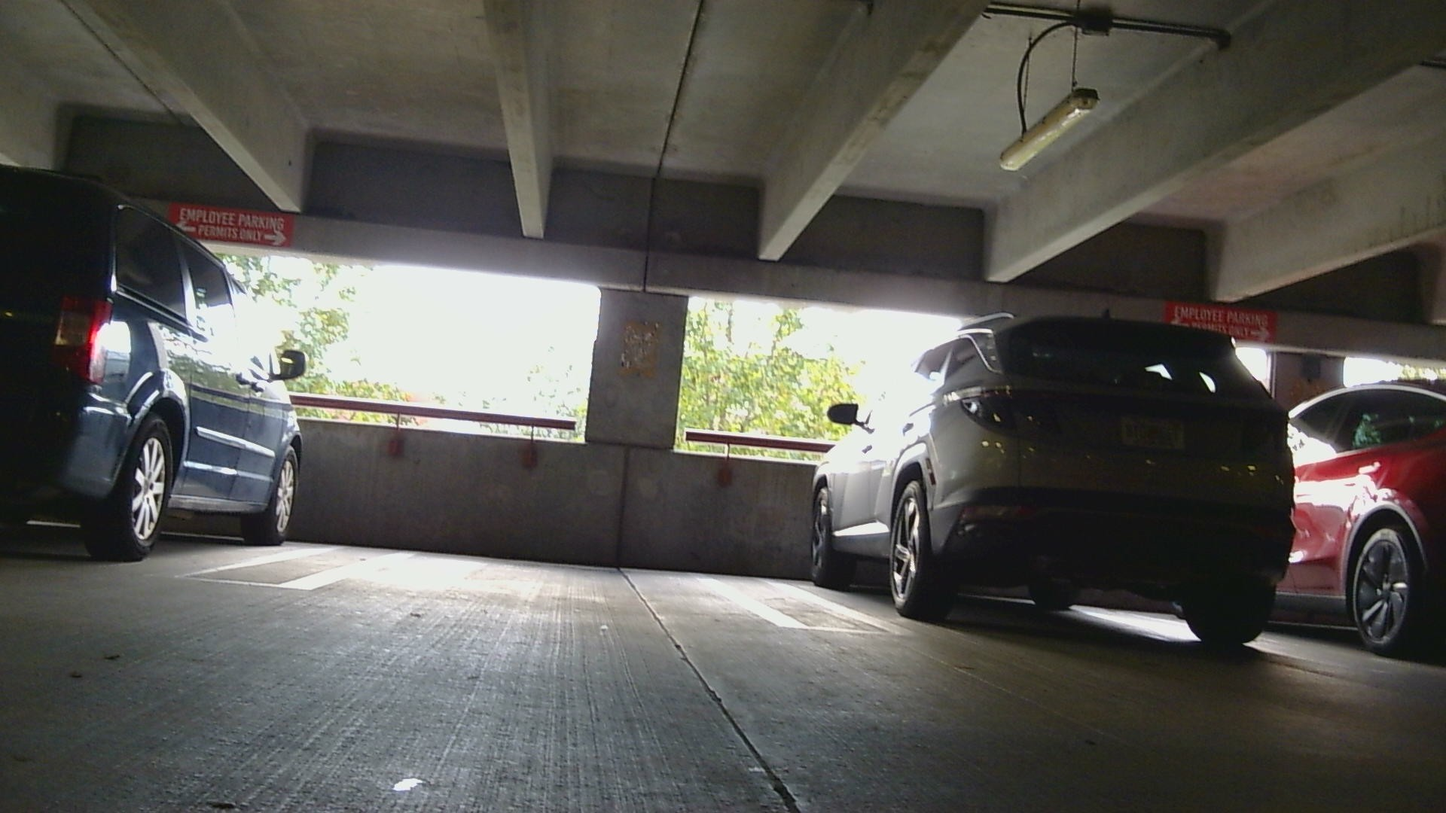empty_spot: (223, 462, 840, 630)
occupied_spot: (793, 298, 1312, 645), (0, 158, 314, 569), (1265, 373, 1445, 666)
